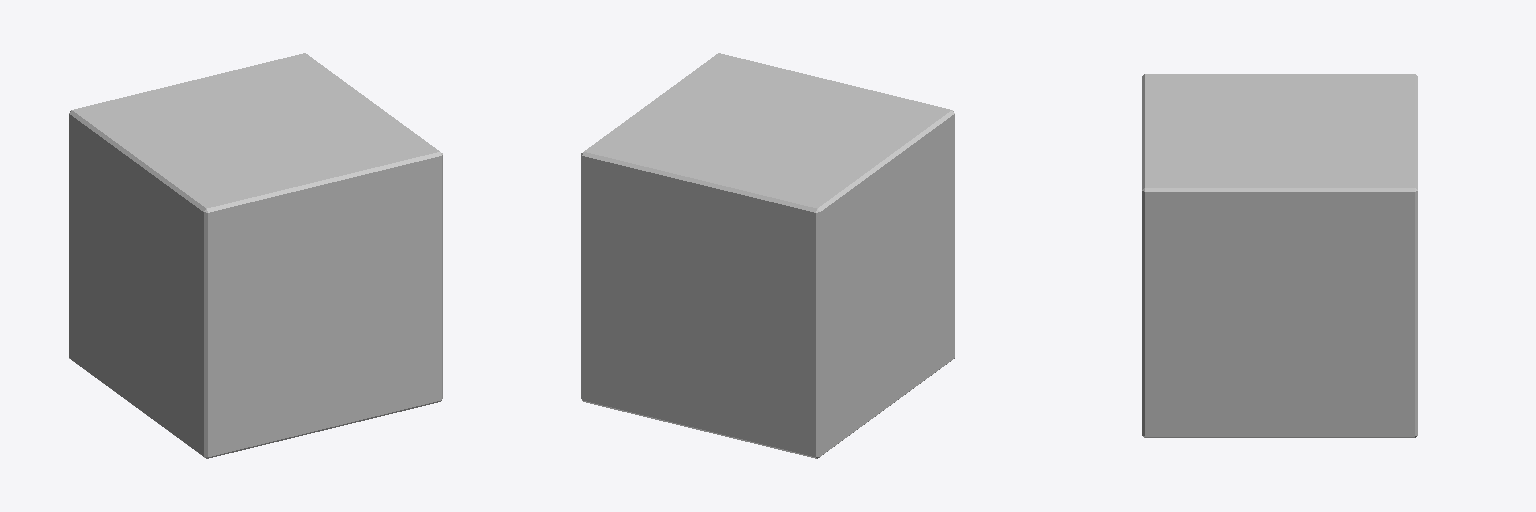
File: tron cube.obj
3 views of the same model, side by side, from view 1: azimuth 30°, elevation 25°; view 2: azimuth 150°, elevation 25°; view 3: azimuth 270°, elevation 25° (orthographic).
Visible parts, largest first — view 1: Cube; view 2: Cube; view 3: Cube.
Part boxes in pixels (left/top/right/bottom): Cube: left=69, top=53, right=442, bottom=458; Cube: left=581, top=53, right=954, bottom=458; Cube: left=1142, top=74, right=1417, bottom=437.
Size of the model in its own units: 2 by 2 by 2.